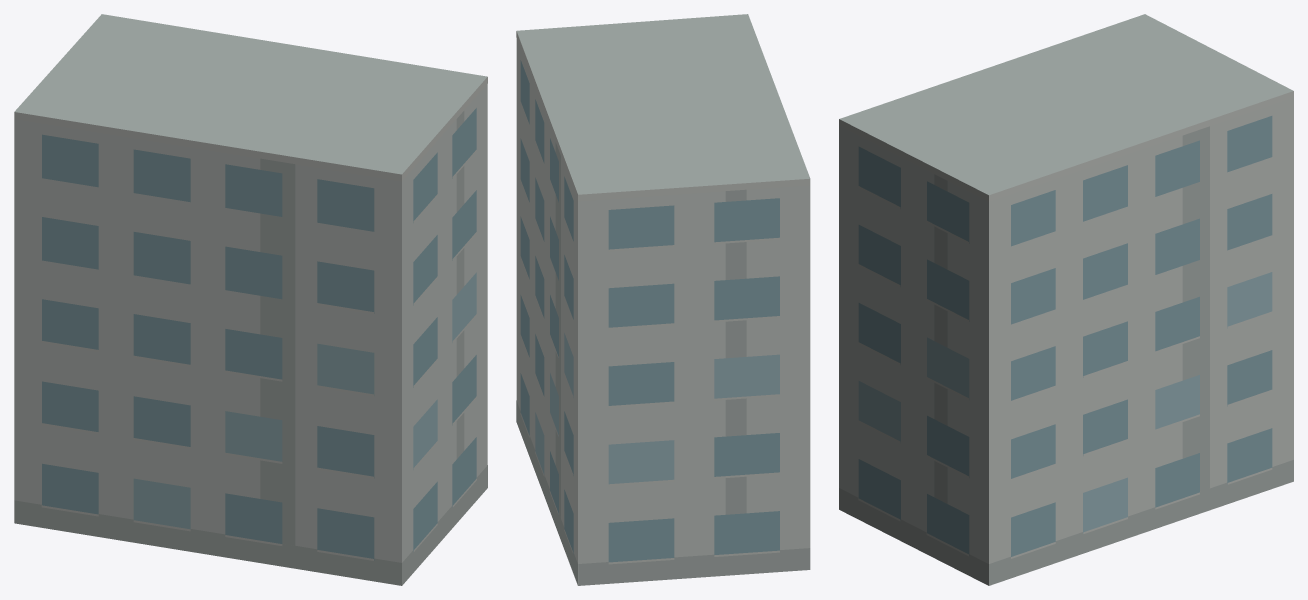
File: survey-upis-32949443.glb
3 renders of one model, left to right at view 1: azimuth 30°, elevation 25°; view 2: azimuth 150°, elevation 25°; view 3: azimuth 270°, elevation 25°, orthographic. The views are drawn at different scales.
Visible parts, largest first — view 1: survey-upis-32949443.tmp; view 2: survey-upis-32949443.tmp; view 3: survey-upis-32949443.tmp.
Boxes of the visible parts, box(x1,y1,x2,y2) form: survey-upis-32949443.tmp: box(14, 14, 487, 585); survey-upis-32949443.tmp: box(516, 14, 810, 585); survey-upis-32949443.tmp: box(839, 14, 1293, 585).
Bounding box in the file's own units: 14.44 × 14.5 × 15.31.
